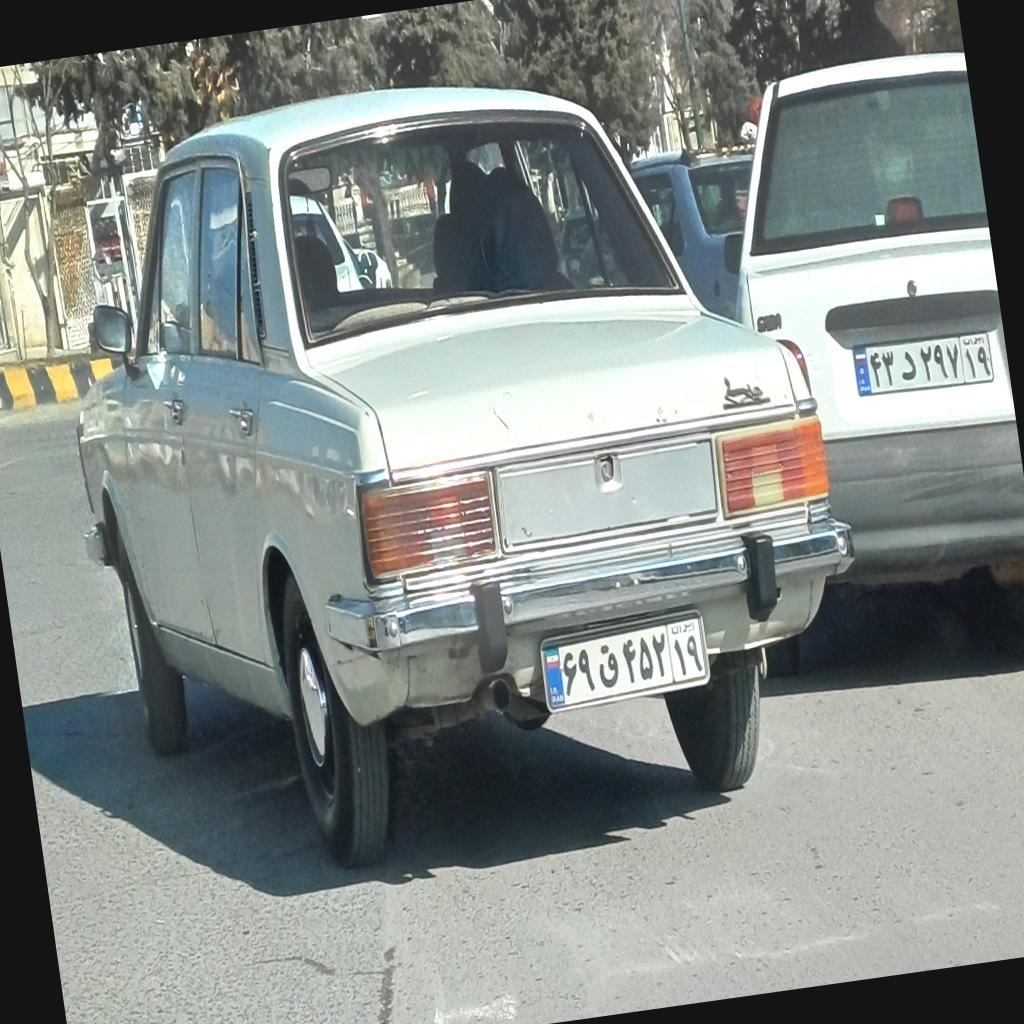Plates: (538, 608, 712, 706), (851, 329, 996, 400)
